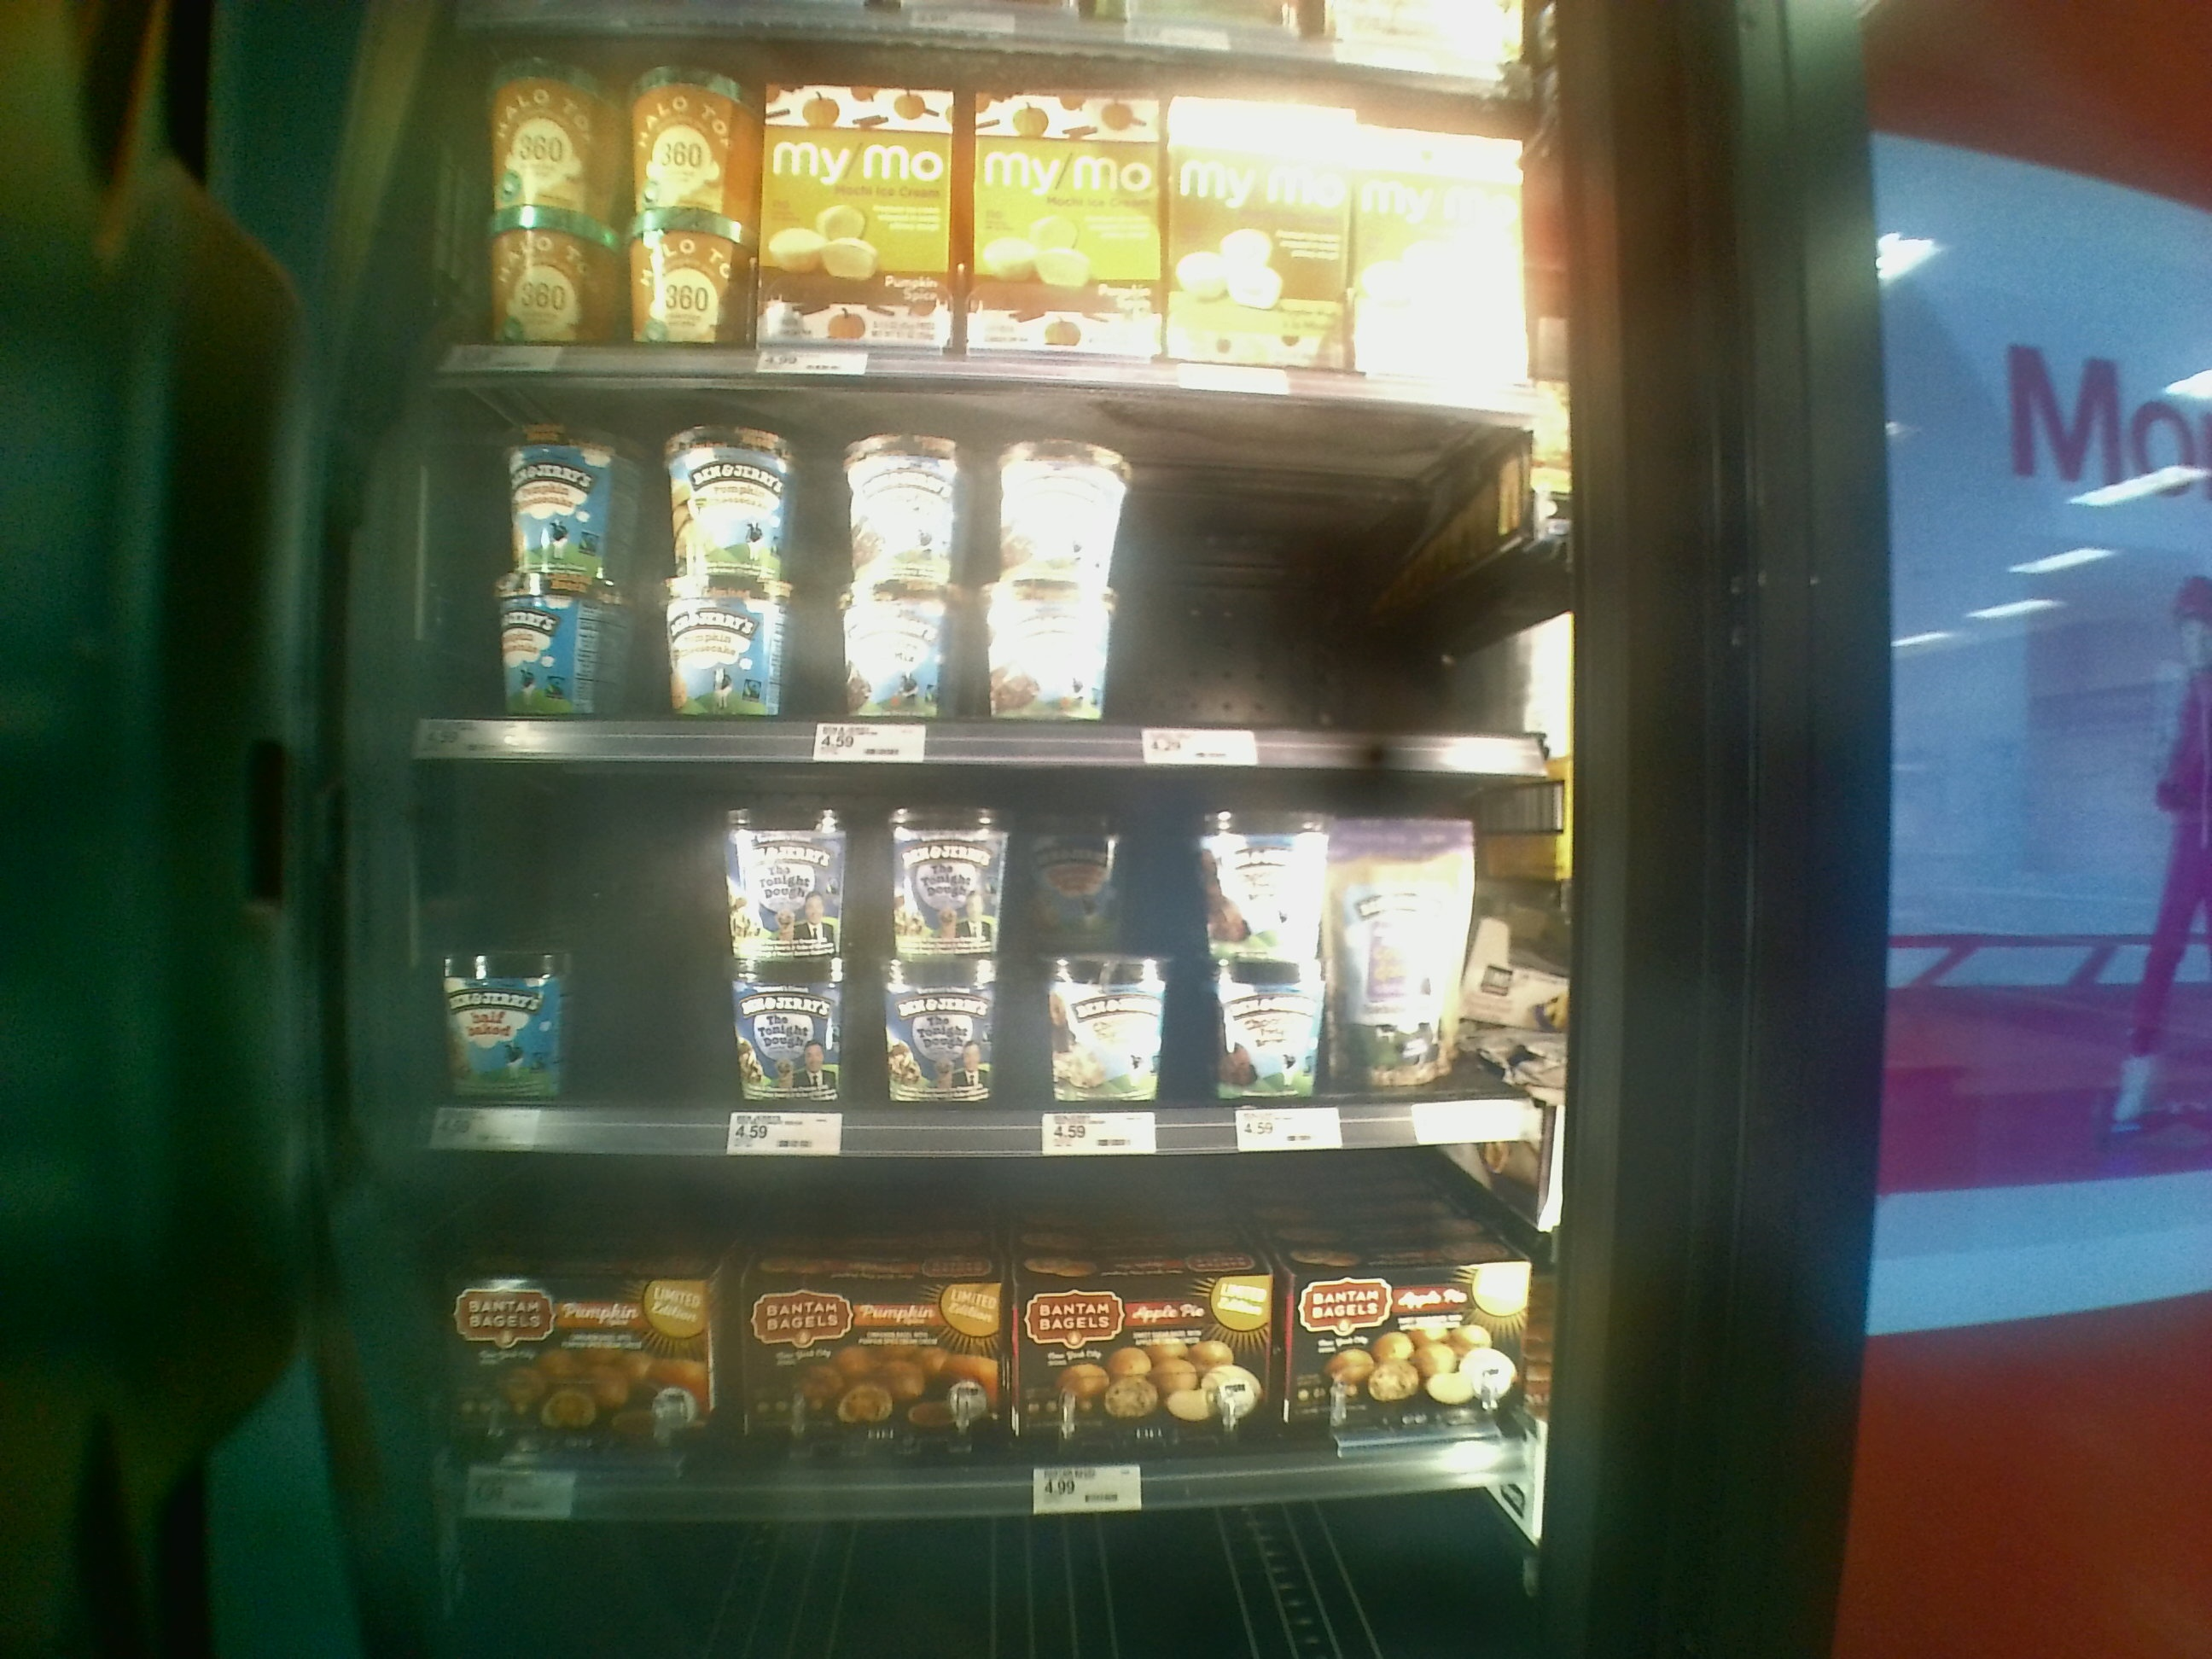shelf: (420, 347, 1541, 758), (376, 730, 1529, 1127), (402, 1127, 1531, 1471)
